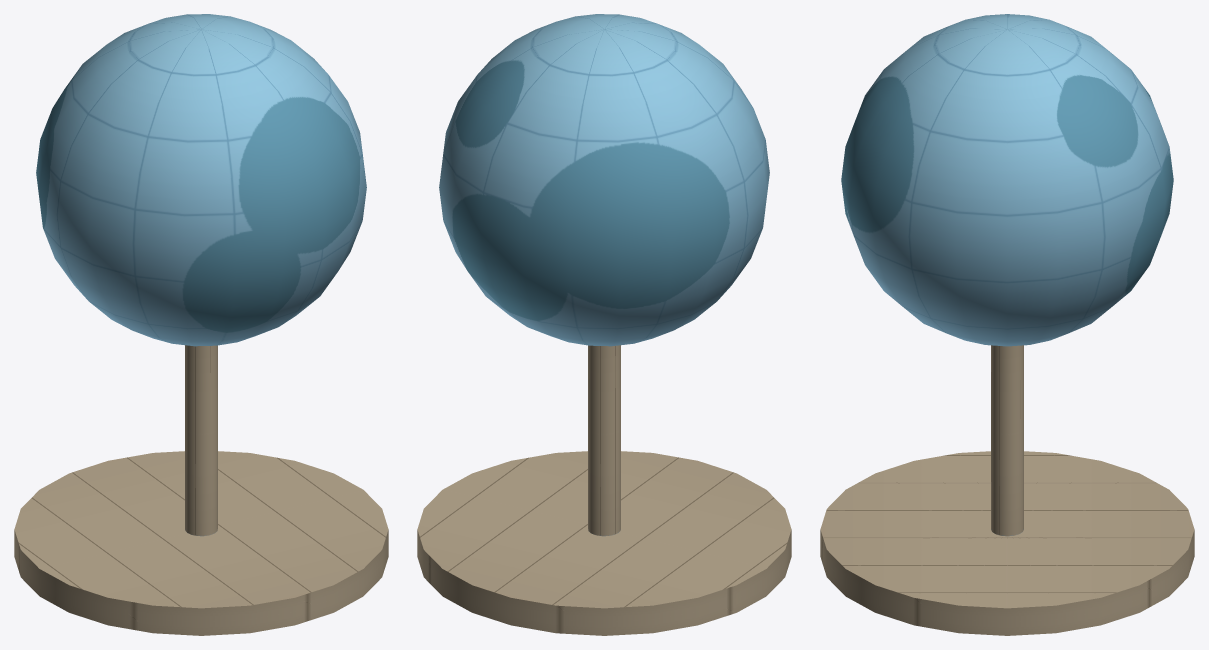
File: galleryGlobeAssembly.glb
The picture shows the model from 3 angles, left to right: view 1: azimuth 30°, elevation 25°; view 2: azimuth 150°, elevation 25°; view 3: azimuth 270°, elevation 25°; orthographic projection.
Parts seen in each view (by area): view 1: galleryGlobeAssembly; view 2: galleryGlobeAssembly; view 3: galleryGlobeAssembly.
Part boxes in pixels (left/top/right/bottom): galleryGlobeAssembly: left=14, top=14, right=388, bottom=635; galleryGlobeAssembly: left=417, top=14, right=791, bottom=635; galleryGlobeAssembly: left=820, top=14, right=1194, bottom=635.
Size of the model in its own units: 2.7 by 4.2 by 2.7.
1 material, 1 textured.
